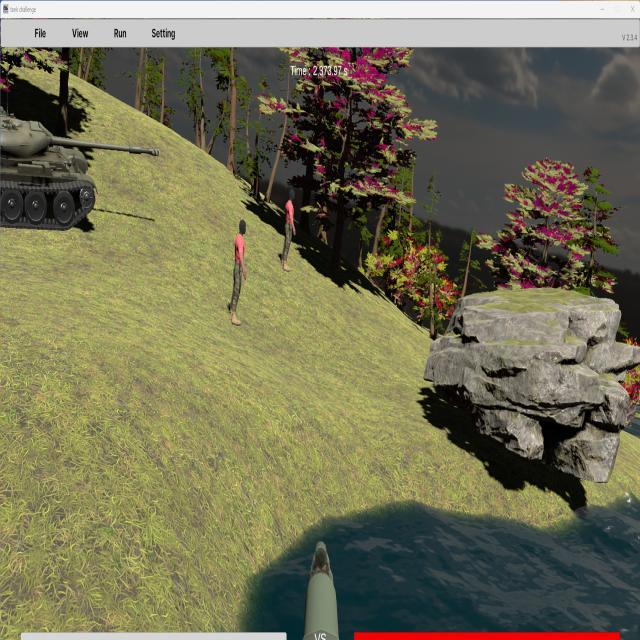Human: (230, 219, 247, 325), (282, 187, 296, 272)
Tank: (1, 104, 160, 231)
